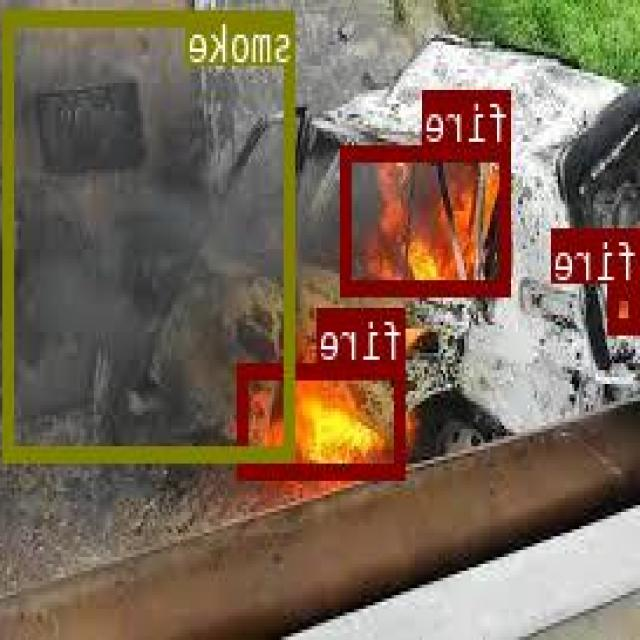fire: (343, 142, 512, 294), (240, 361, 407, 477), (612, 282, 640, 330)
smoke: (6, 9, 297, 458)
